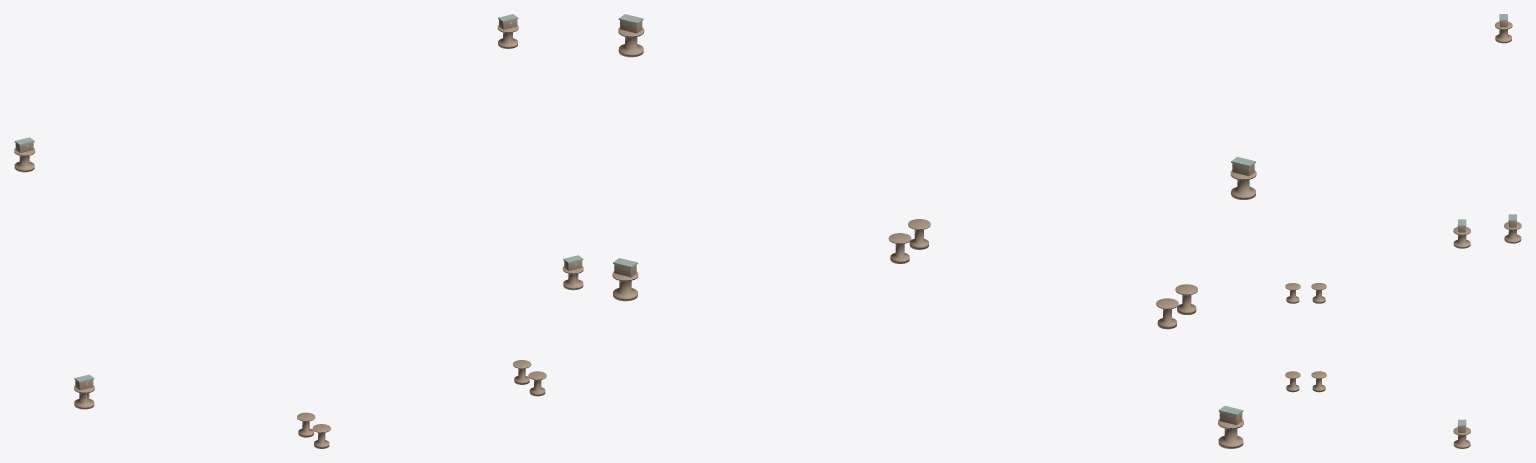
Rendered from delivery_stations.glb.
The picture shows the model from 3 angles, left to right: view 1: azimuth 30°, elevation 25°; view 2: azimuth 150°, elevation 25°; view 3: azimuth 270°, elevation 25°; orthographic projection. The views are drawn at different scales.
Parts seen in each view (by area): view 1: no part large enough to name; view 2: no part large enough to name; view 3: Parcel_Source_Stand_2, Parcel_Source_Stand_1, Parcel_Source_Stand_0, Parcel_Source_Stand_3.
Part boxes in pixels (x1,y1,x2,y2): Parcel_Source_Stand_2: (1453, 227, 1470, 248); Parcel_Source_Stand_1: (1504, 222, 1521, 243); Parcel_Source_Stand_0: (1495, 21, 1512, 43); Parcel_Source_Stand_3: (1453, 427, 1470, 448).
Bounding box in the file's own units: 6.83 × 3.07 × 3.08.
